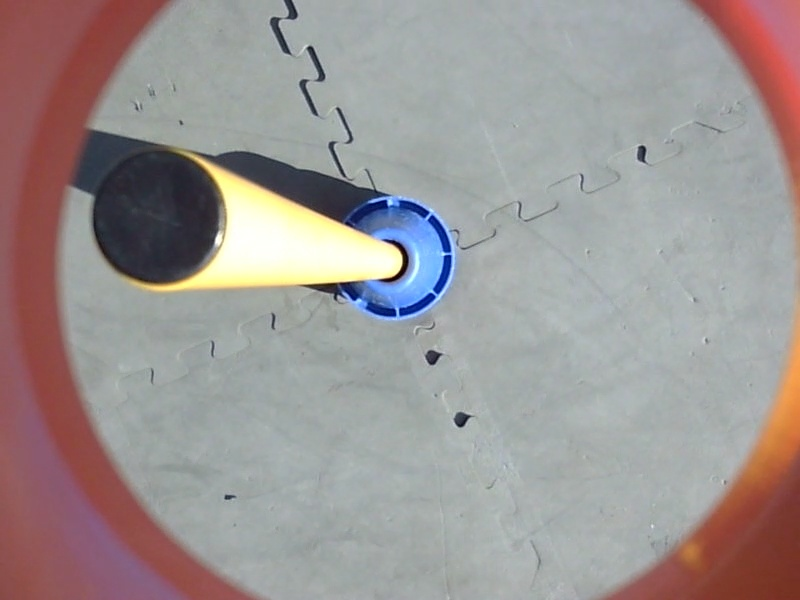tip: (87, 140, 234, 296)
